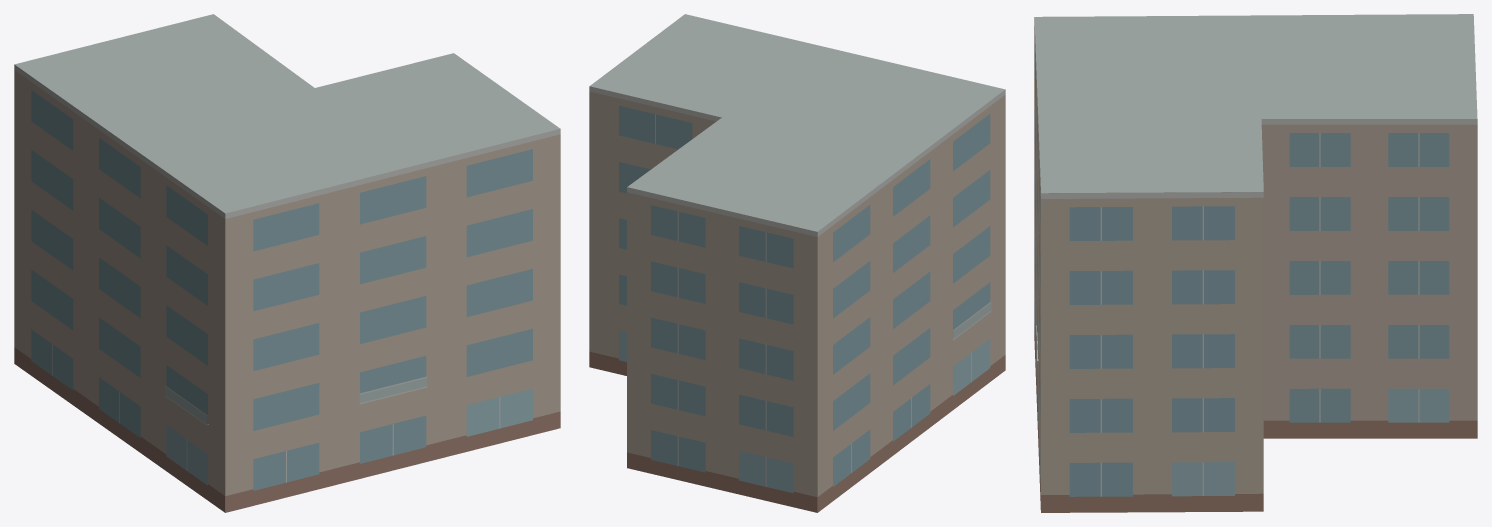
Rendered from survey-upis-32760797.glb.
The picture shows the model from 3 angles, left to right: view 1: azimuth 30°, elevation 25°; view 2: azimuth 150°, elevation 25°; view 3: azimuth 270°, elevation 25°; orthographic projection. The views are drawn at different scales.
Visible parts, largest first — view 1: survey-upis-32760797.tmp; view 2: survey-upis-32760797.tmp; view 3: survey-upis-32760797.tmp.
Boxes of the visible parts, x1,y1,x2,y2 form: survey-upis-32760797.tmp: (14, 14, 560, 512); survey-upis-32760797.tmp: (589, 14, 1005, 512); survey-upis-32760797.tmp: (1034, 14, 1477, 512).
Bounding box in the file's own units: 15.99 × 13.3 × 16.71.
